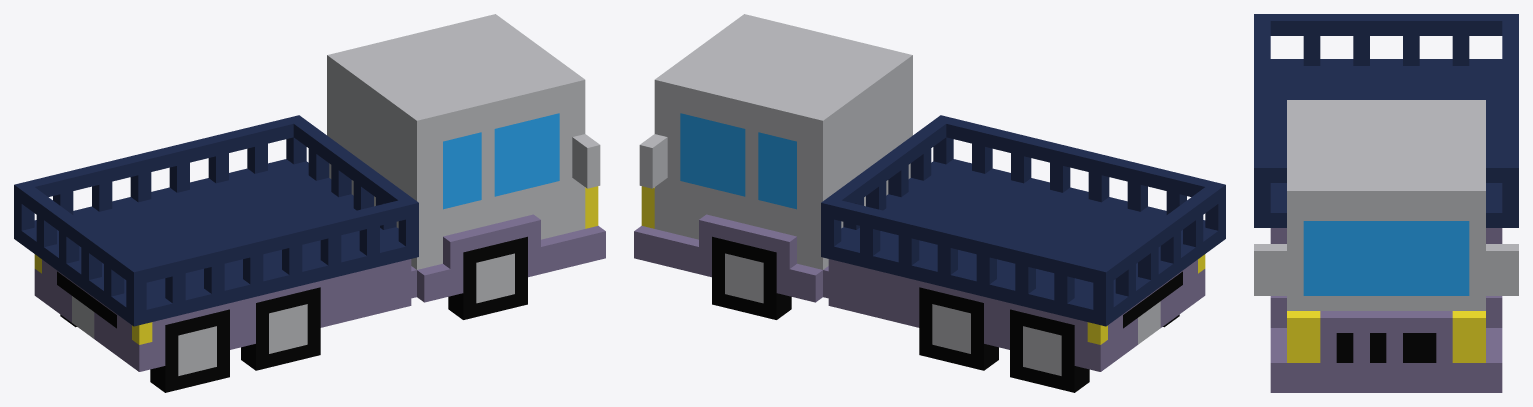
The model's file is truck_a_c.obj.
The picture shows the model from 3 angles, left to right: view 1: azimuth 30°, elevation 25°; view 2: azimuth 150°, elevation 25°; view 3: azimuth 270°, elevation 25°; orthographic projection. The views are drawn at different scales.
Bounding box in the file's own units: 3.7 × 1.5 × 1.6.
1 material, 1 textured.
